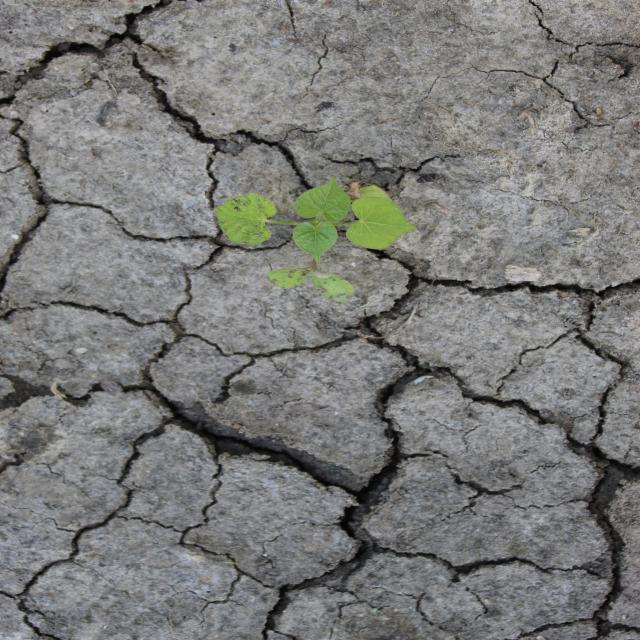MorningGlory: (211, 175, 420, 305)
